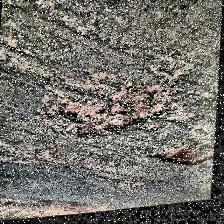pothole: (42, 73, 182, 149), (149, 134, 217, 178)
